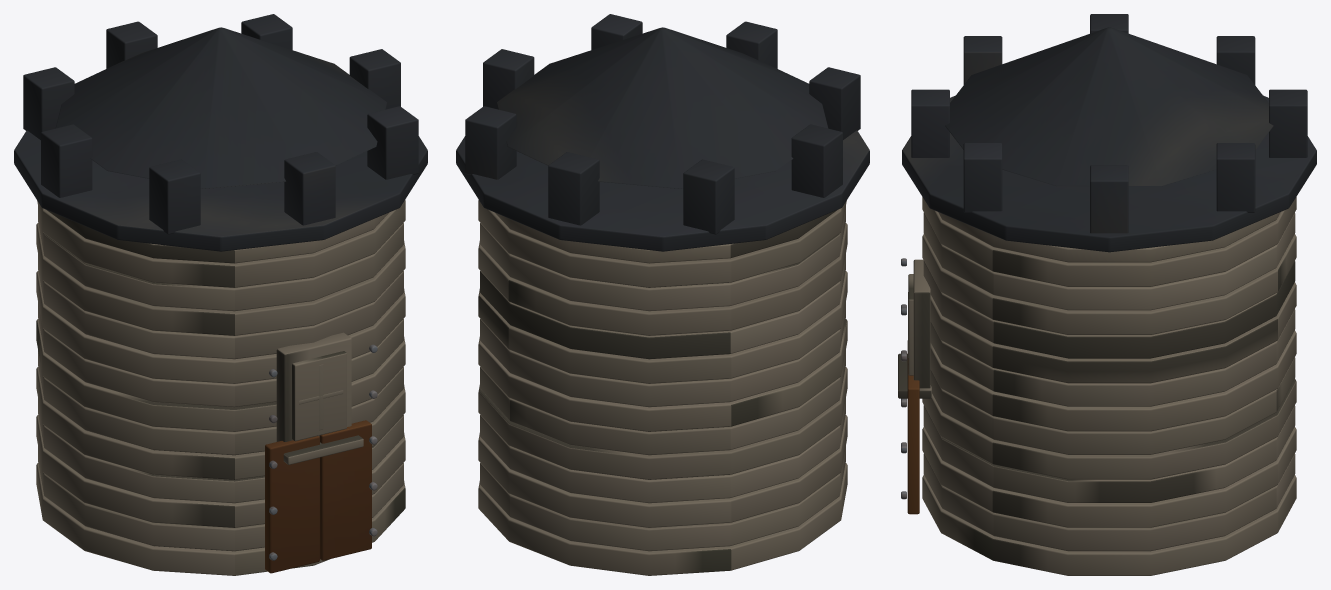
File: building_keep_turret.fbx
The picture shows the model from 3 angles, left to right: view 1: azimuth 30°, elevation 25°; view 2: azimuth 150°, elevation 25°; view 3: azimuth 270°, elevation 25°; orthographic projection.
Parts seen in each view (by area): view 1: building_keep_turret; view 2: building_keep_turret; view 3: building_keep_turret.
Boxes of the visible parts, x1,y1,x2,y2 form: building_keep_turret: [14, 14, 427, 575]; building_keep_turret: [456, 14, 869, 575]; building_keep_turret: [898, 14, 1316, 575].
Size of the model in its own units: 3.44 by 4.3 by 3.47.
